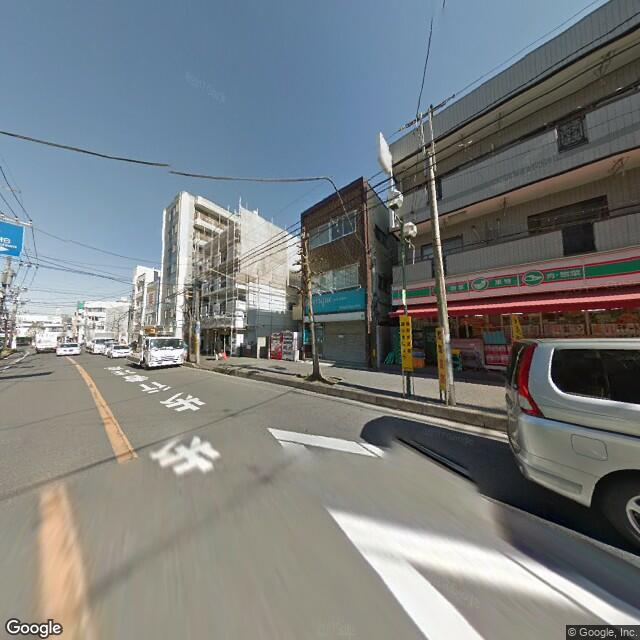lawson: (390, 243, 637, 305)
